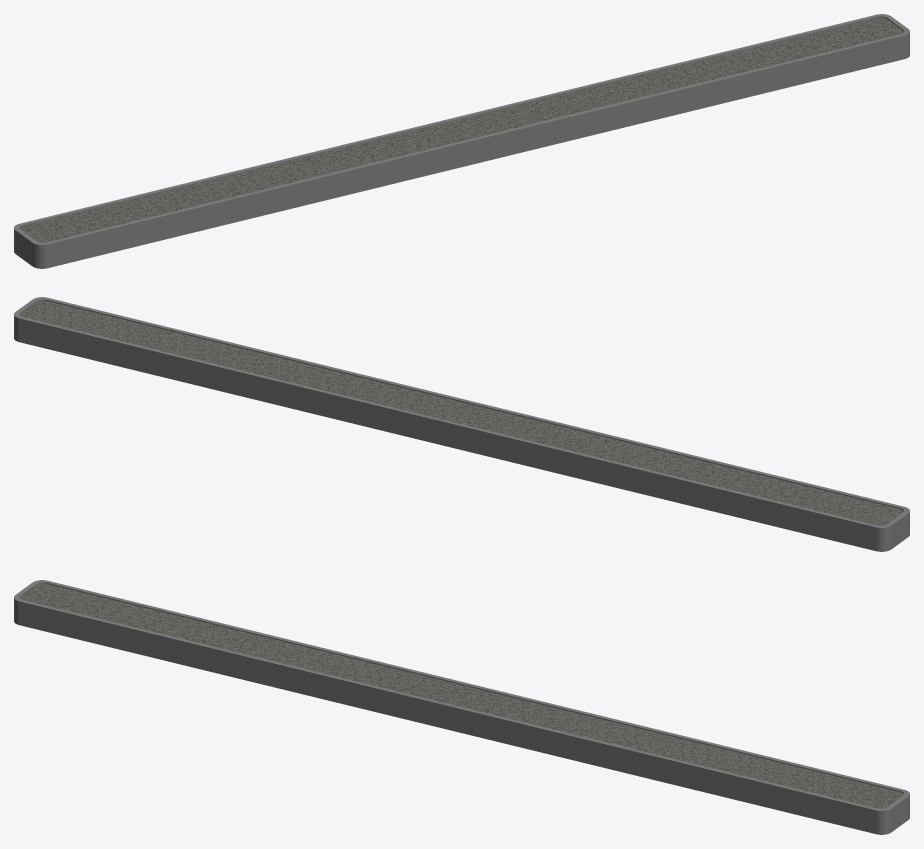
The model's file is dcmonaldsGroundThing.glb.
3 views of the same model, one above another, from view 1: azimuth 30°, elevation 25°; view 2: azimuth 150°, elevation 25°; view 3: azimuth 330°, elevation 25° (orthographic).
Visible parts, largest first — view 1: Ground parts; view 2: Ground parts; view 3: Ground parts.
Boxes of the visible parts, bbox=[...] form: Ground parts: bbox=[14, 14, 909, 268]; Ground parts: bbox=[14, 297, 909, 551]; Ground parts: bbox=[14, 580, 909, 834].
Size of the model in its own units: 37.4 by 0.9726 by 2.09.
Materials: 2 (2 with a texture image).
